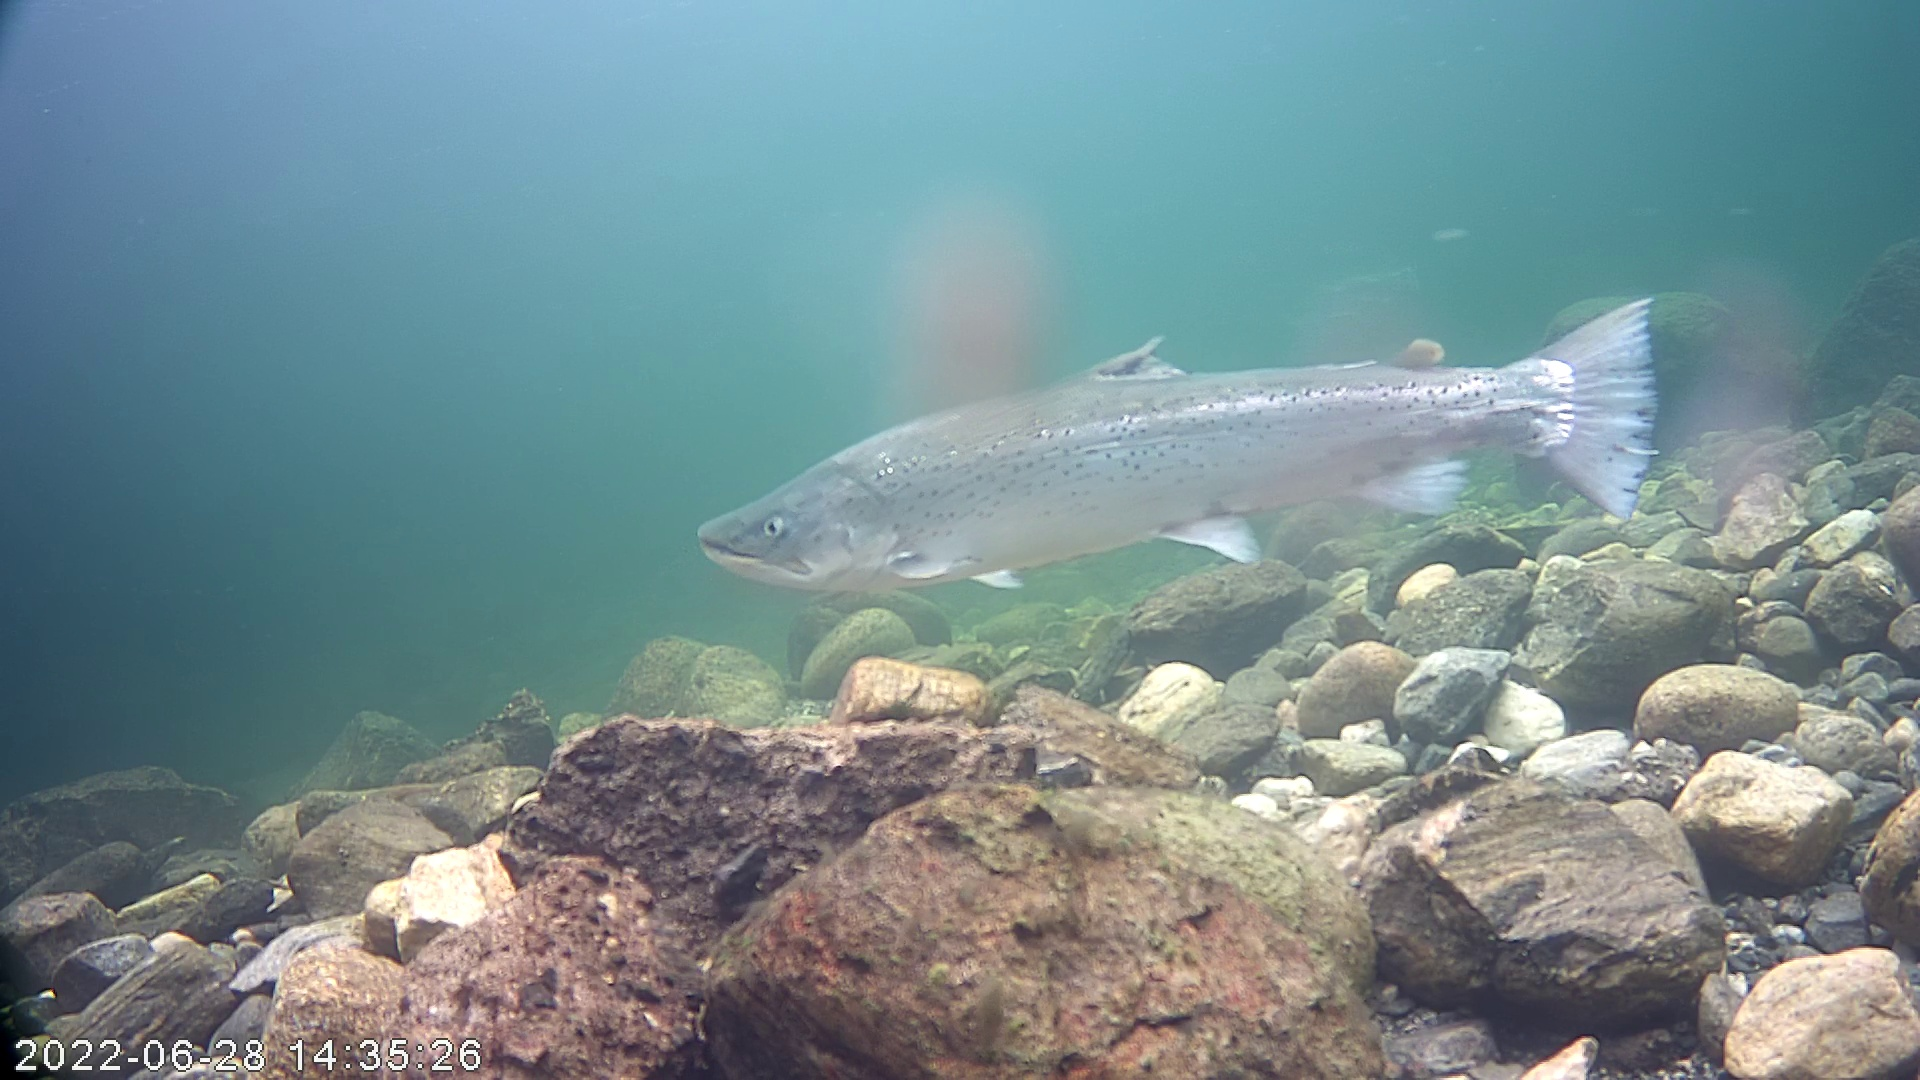salmon: (675, 198, 1708, 650)
